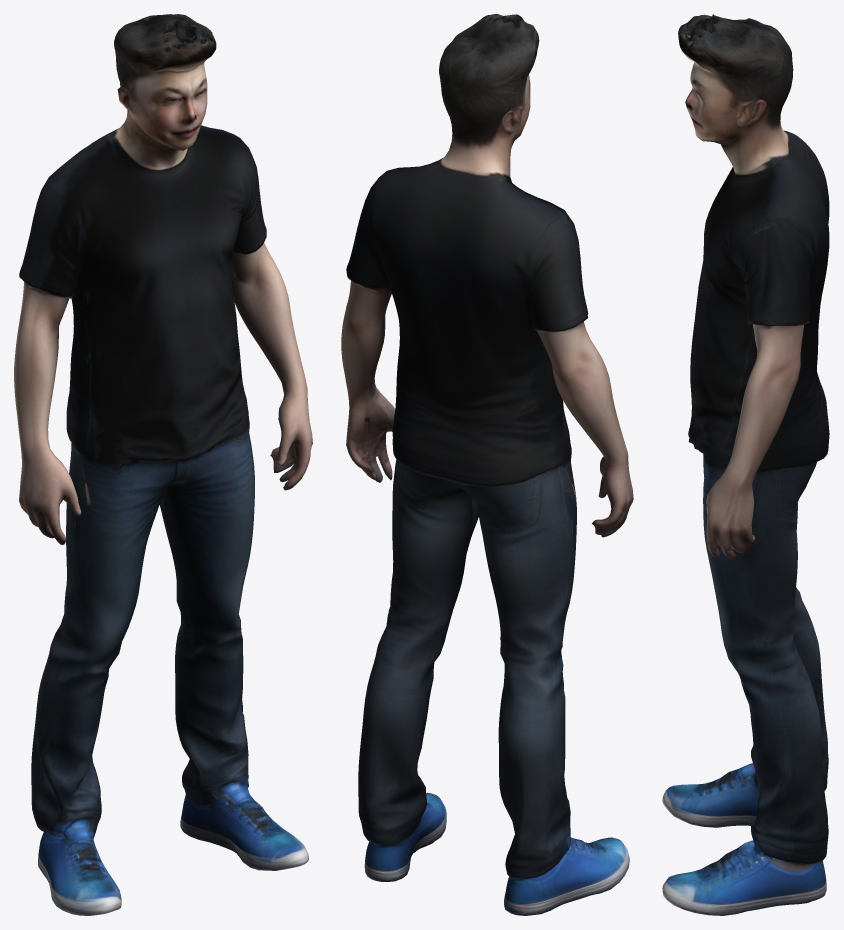
Rendered from _realistic_Elon_Musk_0721062437_texture.fbx.
3 renders of one model, left to right at view 1: azimuth 30°, elevation 25°; view 2: azimuth 150°, elevation 25°; view 3: azimuth 270°, elevation 25°, orthographic. The views are drawn at different scales.
Parts seen in each view (by area): view 1: Mesh1_Mesh1.077; view 2: Mesh1_Mesh1.077; view 3: Mesh1_Mesh1.077.
Boxes of the visible parts, left/top/right/bottom form: Mesh1_Mesh1.077: left=14, top=14, right=312, bottom=915; Mesh1_Mesh1.077: left=341, top=14, right=633, bottom=915; Mesh1_Mesh1.077: left=662, top=14, right=829, bottom=915.
Bounding box in the file's own units: 69.22 × 200 × 35.86.
1 material, 1 textured.
